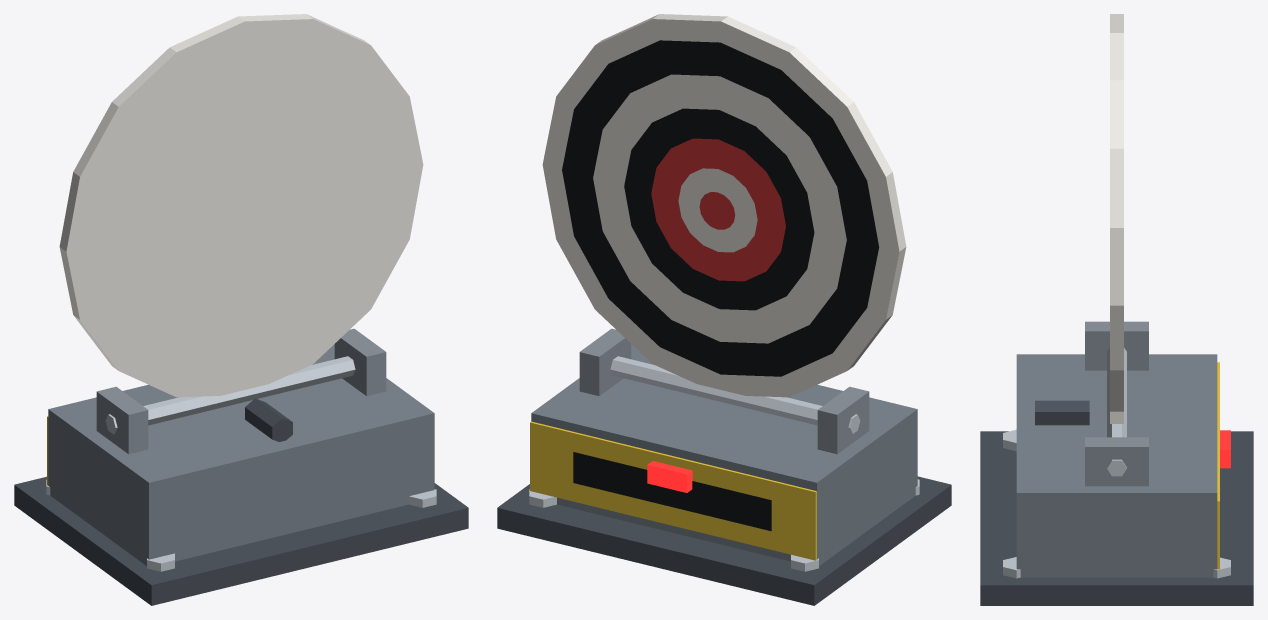
Rendered from range_target_round.glb.
3 views of the same model, side by side, from view 1: azimuth 30°, elevation 25°; view 2: azimuth 150°, elevation 25°; view 3: azimuth 270°, elevation 25° (orthographic).
Parts seen in each view (by area): view 1: Plate, Body; view 2: Plate, Body; view 3: Body, Plate.
Boxes of the visible parts, bbox=[...] form: Plate: bbox=[59, 14, 423, 397]; Body: bbox=[14, 328, 468, 605]; Plate: bbox=[542, 14, 906, 397]; Body: bbox=[497, 328, 951, 605]; Body: bbox=[980, 321, 1253, 605]; Plate: bbox=[1110, 14, 1123, 423].
Size of the model in its own units: 0.9 by 1.2 by 0.6.
